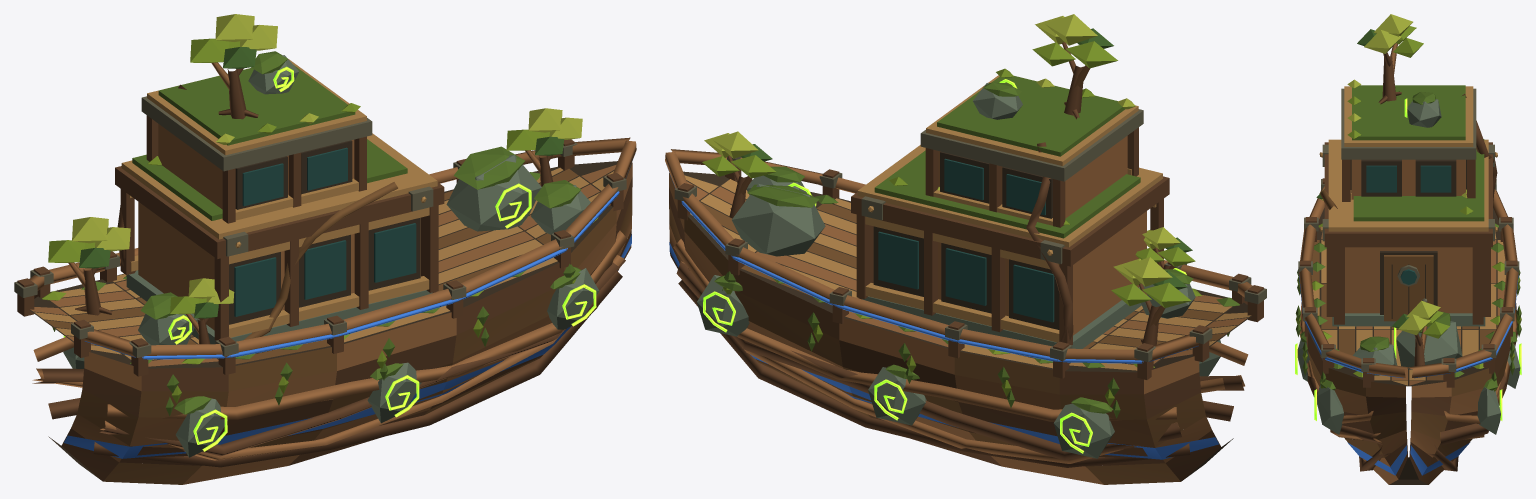
3 views of the same model, side by side, from view 1: azimuth 30°, elevation 25°; view 2: azimuth 150°, elevation 25°; view 3: azimuth 270°, elevation 25° (orthographic). The views are drawn at different scales.
Parts seen in each view (by area): view 1: 元素战舰 · 翠灵; view 2: 元素战舰 · 翠灵; view 3: 元素战舰 · 翠灵.
Part boxes in pixels (left/top/right/bottom): 元素战舰 · 翠灵: left=14, top=14, right=636, bottom=484; 元素战舰 · 翠灵: left=665, top=14, right=1266, bottom=484; 元素战舰 · 翠灵: left=1295, top=14, right=1521, bottom=484.
Size of the model in its own units: 1.64 by 1.23 by 0.6674.
